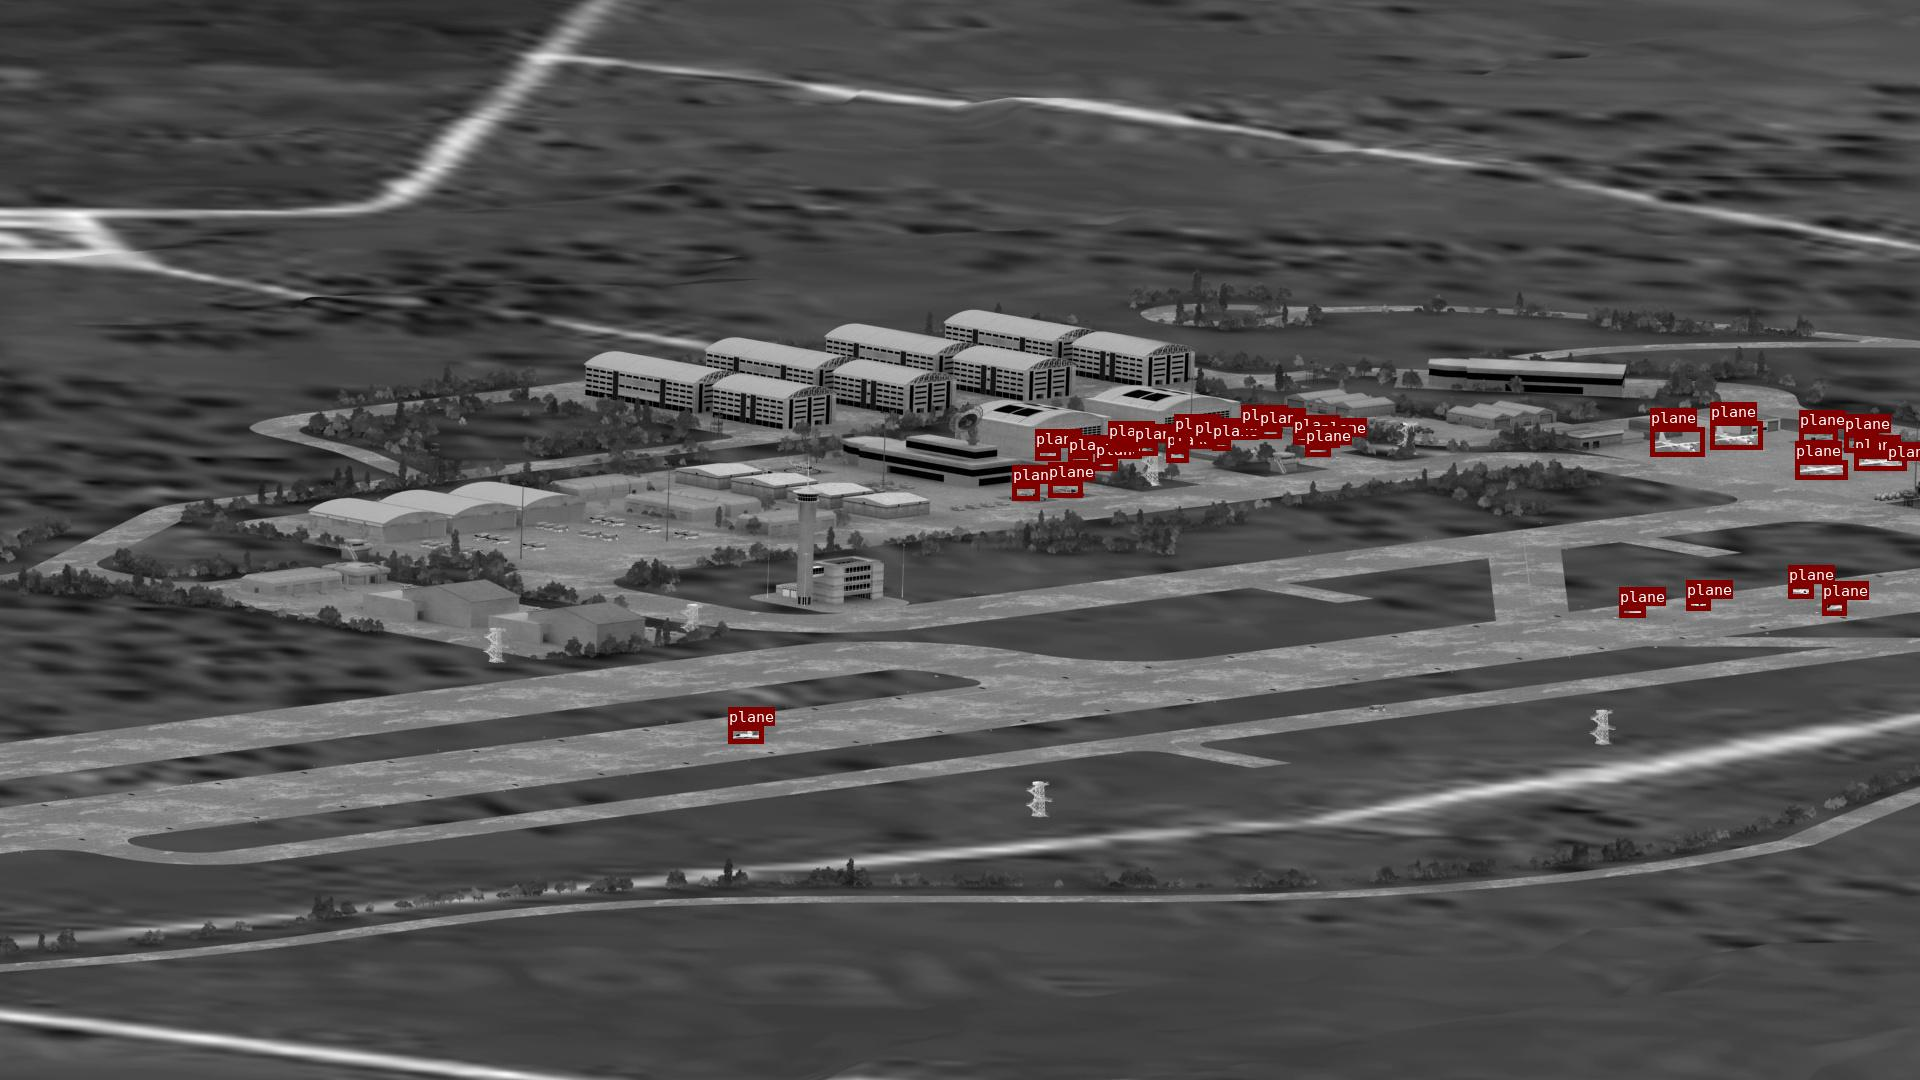plane: (1650, 427, 1704, 456), (1710, 421, 1762, 448), (1795, 460, 1847, 479), (1854, 454, 1905, 469), (1844, 433, 1878, 452), (1799, 429, 1837, 444), (728, 727, 764, 742), (1048, 481, 1083, 497), (1887, 442, 1917, 456), (1011, 484, 1039, 500), (1822, 600, 1846, 615), (1788, 584, 1813, 597), (1035, 448, 1060, 460), (1305, 444, 1331, 456), (1166, 448, 1188, 462), (1687, 599, 1710, 611), (1134, 443, 1156, 455), (1619, 607, 1644, 617), (1108, 440, 1133, 451), (1068, 454, 1092, 464), (1095, 459, 1117, 469), (1294, 434, 1316, 444), (1259, 427, 1280, 438), (1241, 425, 1263, 434), (1193, 436, 1211, 448), (1320, 436, 1338, 447), (1174, 433, 1189, 444), (1212, 440, 1230, 450)
